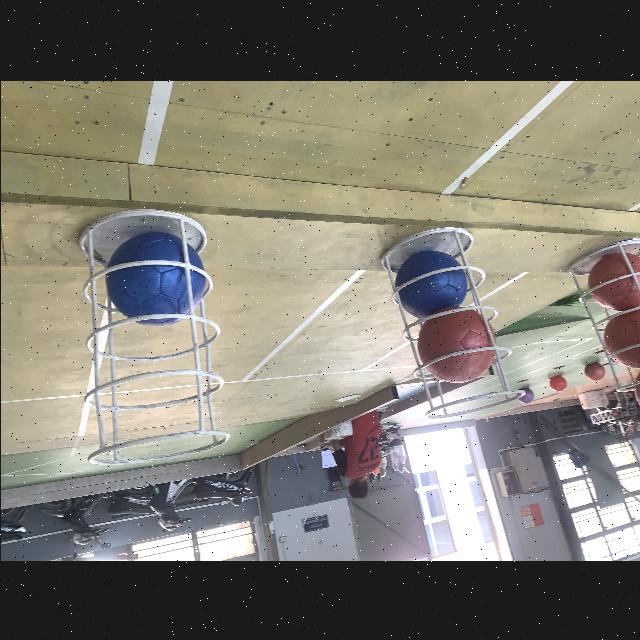B: (108, 231, 204, 327), (394, 248, 468, 316)
R: (418, 310, 497, 382), (586, 253, 640, 309), (602, 310, 640, 366), (634, 360, 640, 426)
